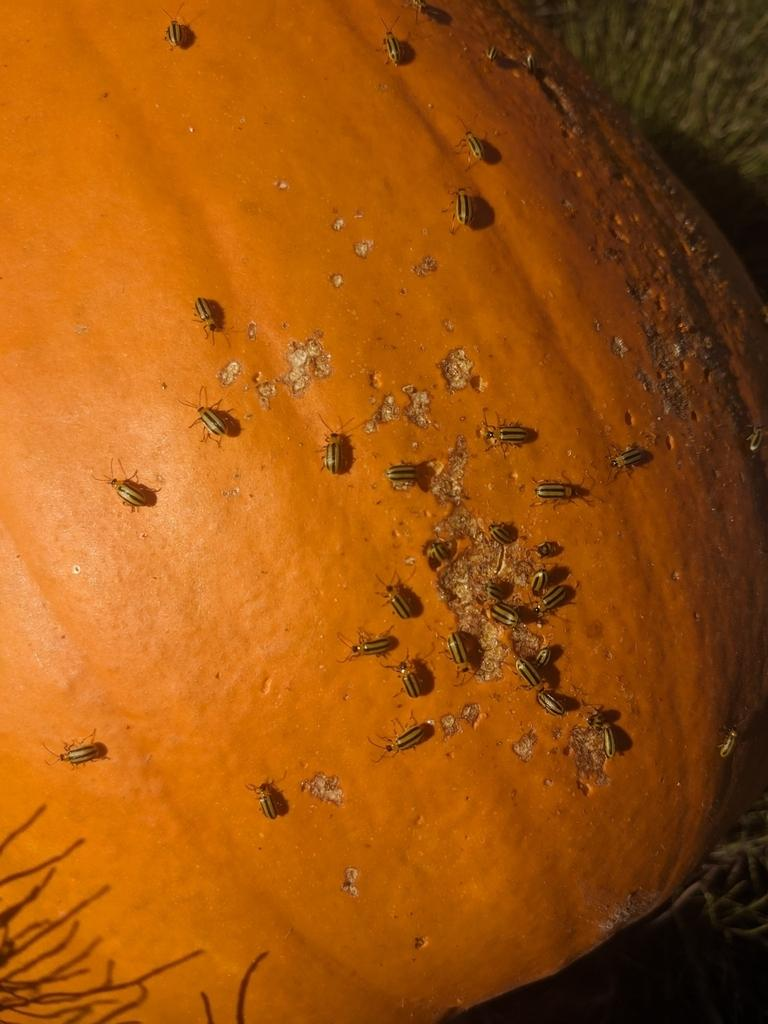potato_beetle: (76, 451, 166, 531), (298, 405, 380, 489), (321, 610, 415, 679), (30, 721, 119, 788), (169, 380, 249, 452), (351, 710, 455, 764), (468, 403, 552, 468), (232, 758, 298, 832), (436, 166, 491, 240), (372, 440, 436, 503), (174, 288, 239, 346), (364, 570, 421, 636), (374, 651, 440, 708), (434, 620, 486, 681)
